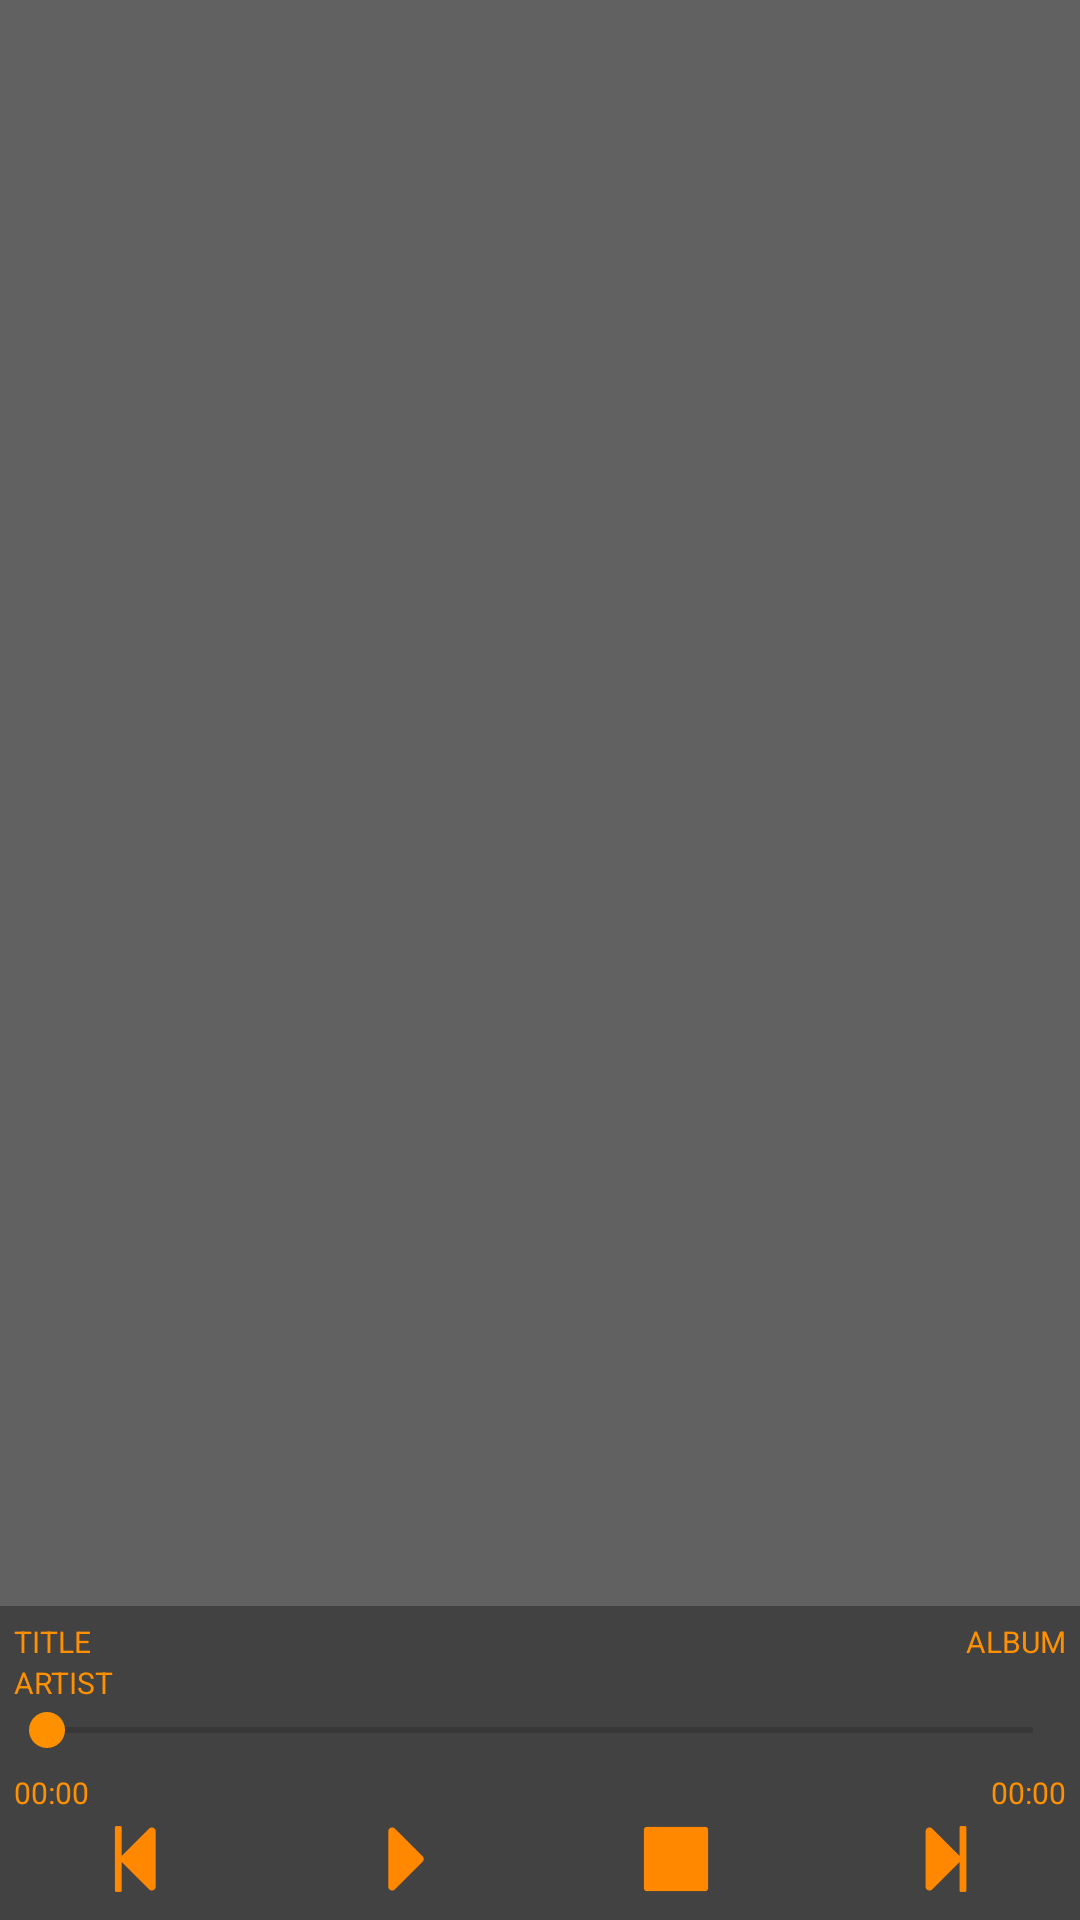

Where to tap for icons on this 1080px×1920px app screen, as (x=x, y=y):
next: (x=946, y=1859)
play: (x=406, y=1859)
previous: (x=135, y=1859)
